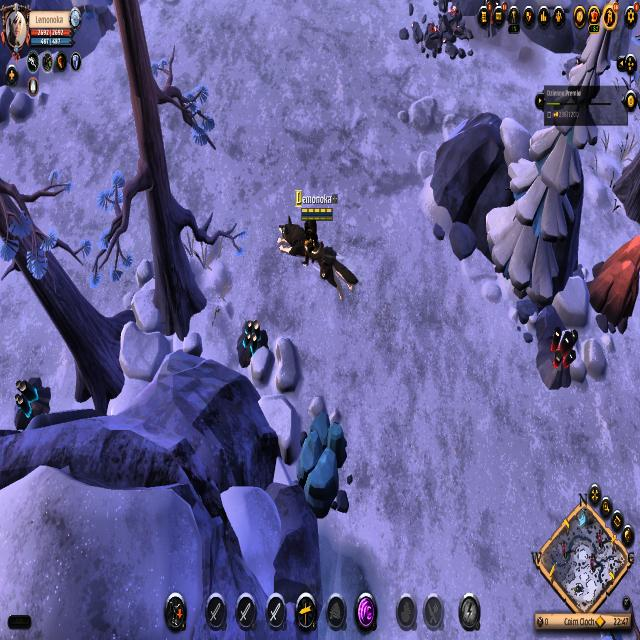ore tier 4: (10, 370, 50, 440), (234, 316, 269, 375)
ore tier 5: (536, 321, 576, 392)
rock tier 4: (297, 410, 350, 520)
rock tier 5: (585, 243, 640, 340)
